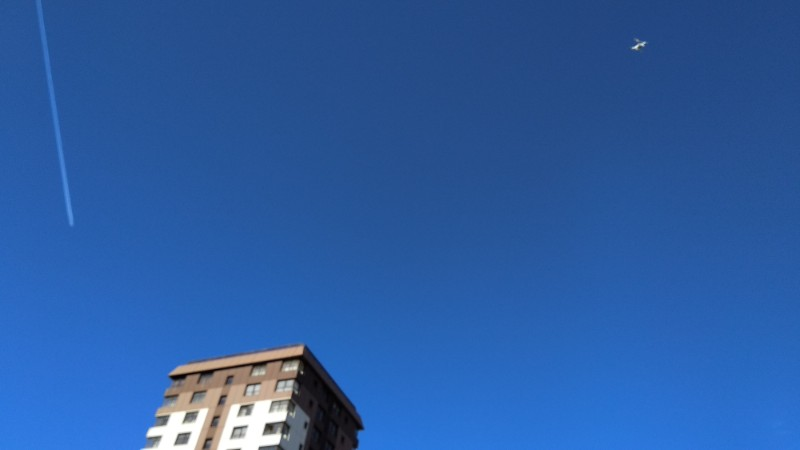drone: (630, 37, 647, 53)
